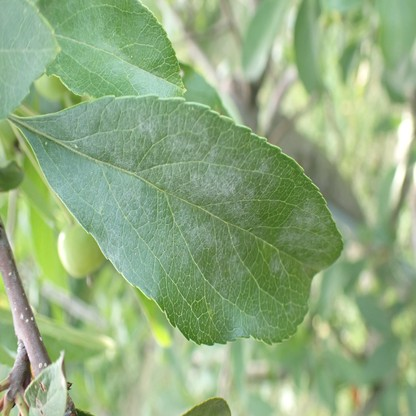powdery_mildew: (44, 101, 254, 215), (167, 194, 245, 287), (271, 204, 330, 274), (106, 234, 119, 260), (258, 158, 268, 172)
